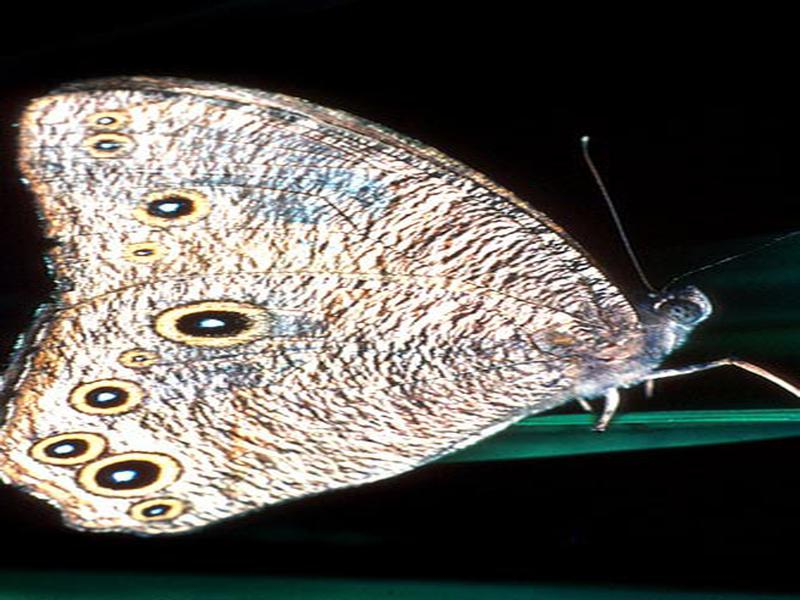Rice_horned_caterpillar: (17, 52, 714, 546)
